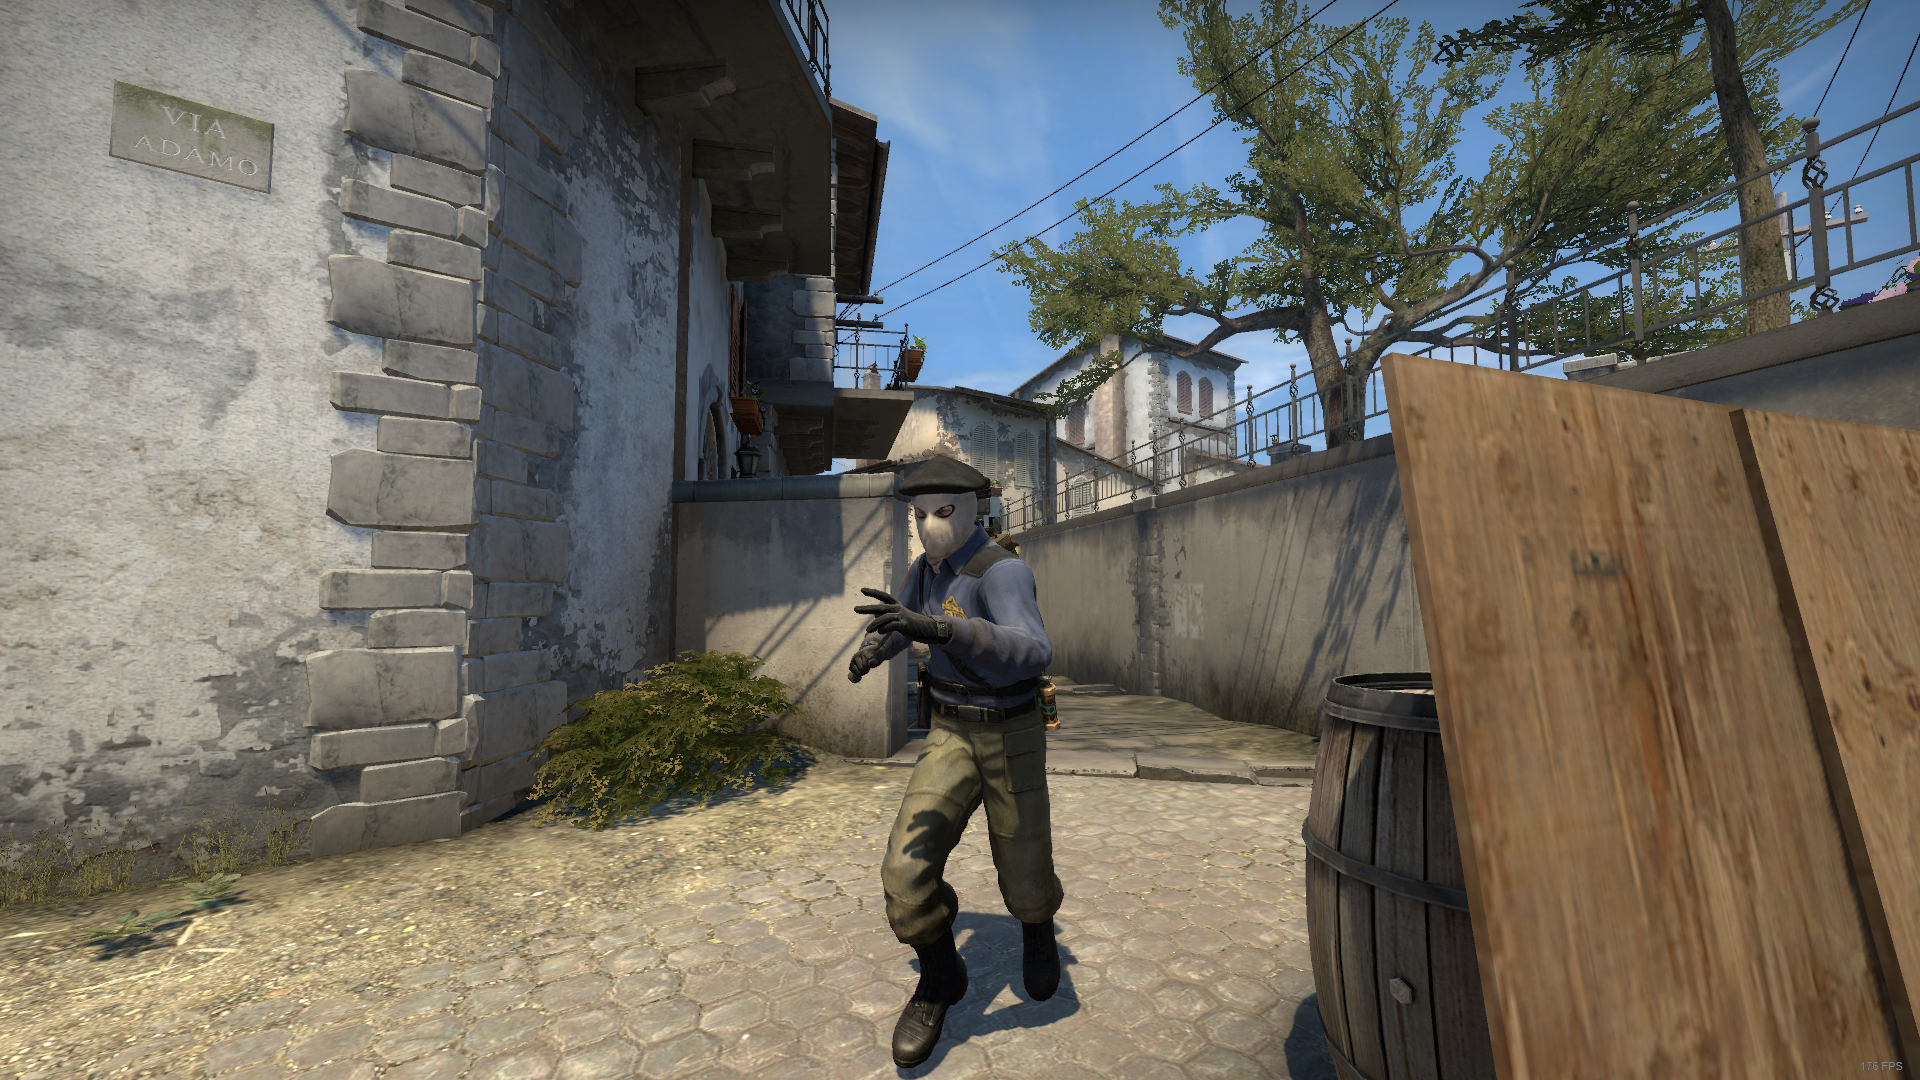t: (820, 444, 1098, 1080)
